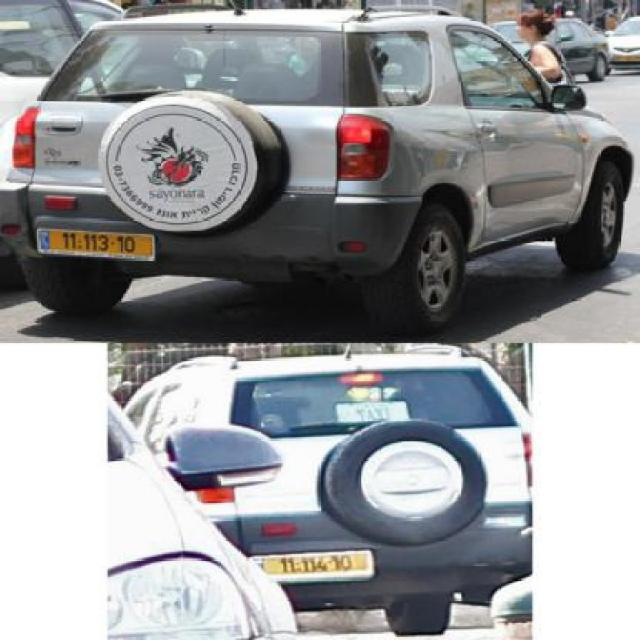License-Plates: (247, 547, 378, 583), (36, 228, 157, 262)
